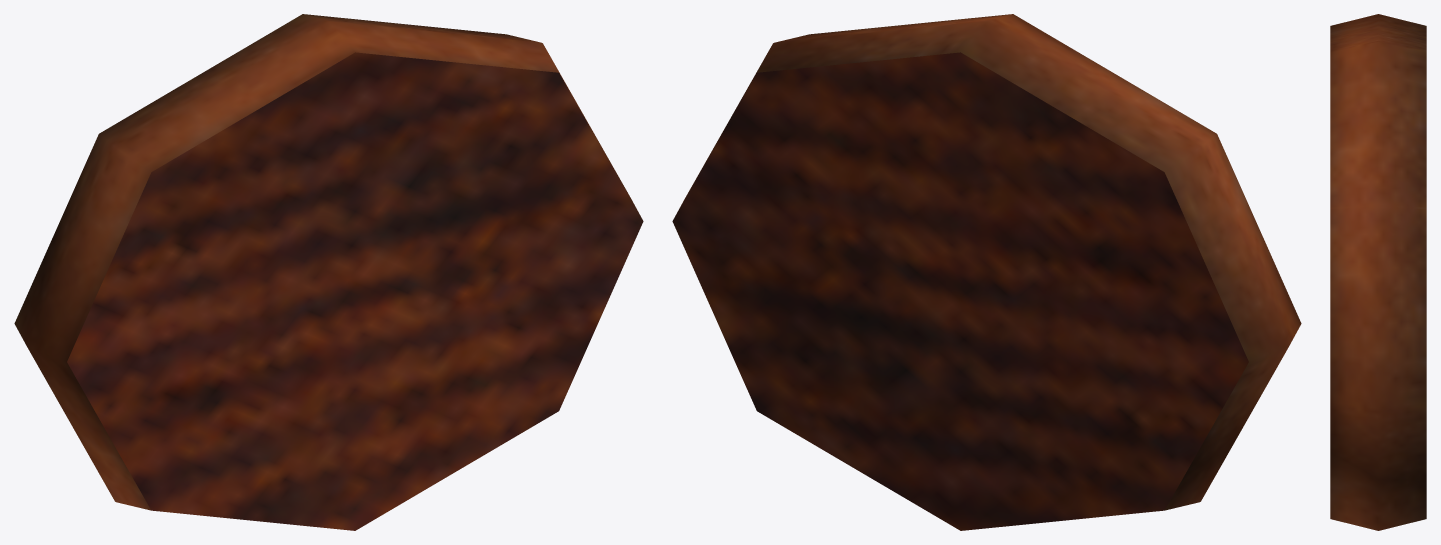
The model's file is Steak_Cooked.fbx.
3 views of the same model, side by side, from view 1: azimuth 30°, elevation 25°; view 2: azimuth 150°, elevation 25°; view 3: azimuth 270°, elevation 25° (orthographic). The views are drawn at different scales.
Visible parts, largest first — view 1: Steak_Cooked; view 2: Steak_Cooked; view 3: Steak_Cooked.
Boxes of the visible parts, x1,y1,x2,y2 form: Steak_Cooked: [14, 14, 643, 530]; Steak_Cooked: [672, 14, 1301, 530]; Steak_Cooked: [1330, 14, 1426, 530].
Bounding box in the file's own units: 12.18 × 1.83 × 9.66.
